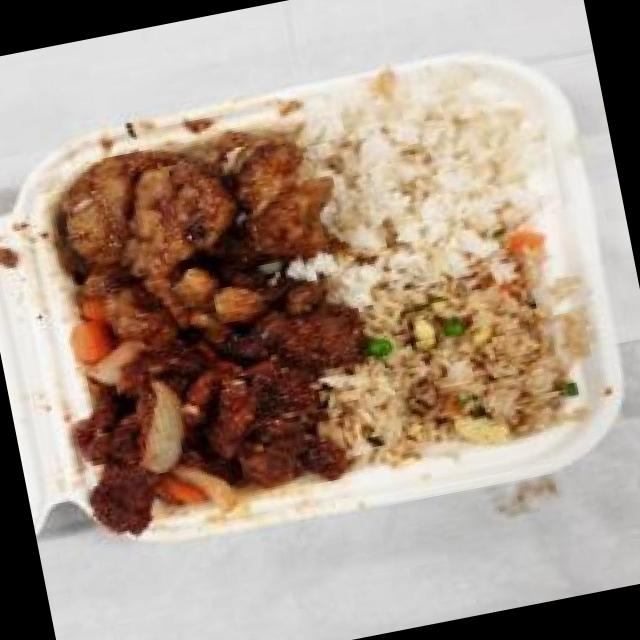Beijing Beef: (49, 296, 388, 548)
Fried Rice: (317, 258, 604, 478)
The Original Orange Chicken: (36, 116, 348, 368)
White Steamed Rice: (292, 62, 568, 290)
